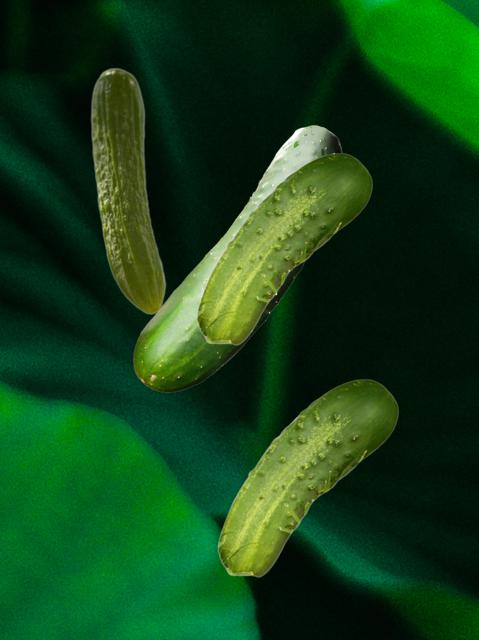cucumber: (133, 125, 341, 391), (217, 379, 397, 576), (196, 153, 371, 344), (90, 67, 165, 314)
